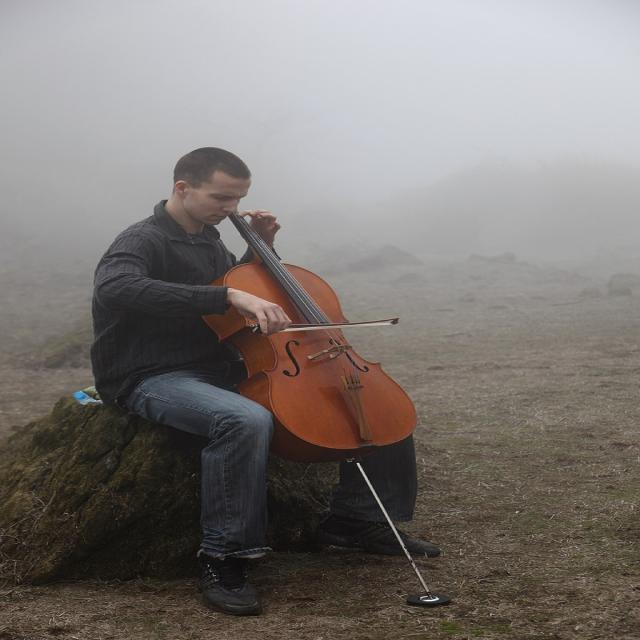cello: (195, 205, 424, 468)
